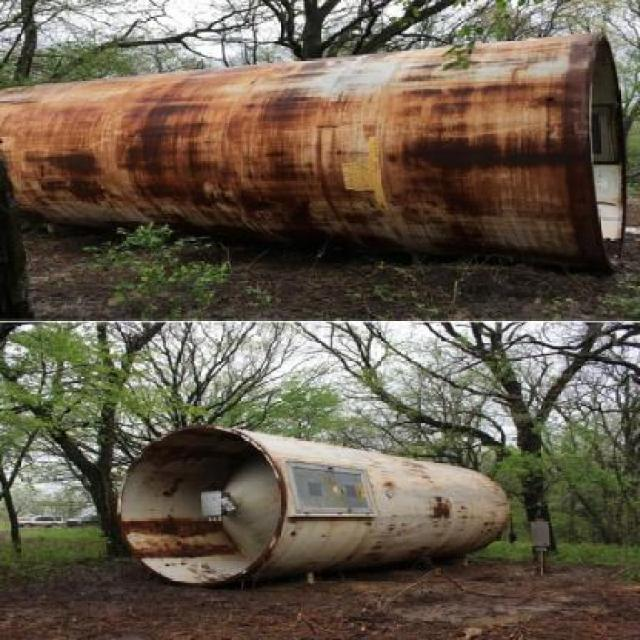corrosion: (2, 33, 620, 267), (111, 422, 520, 583)
